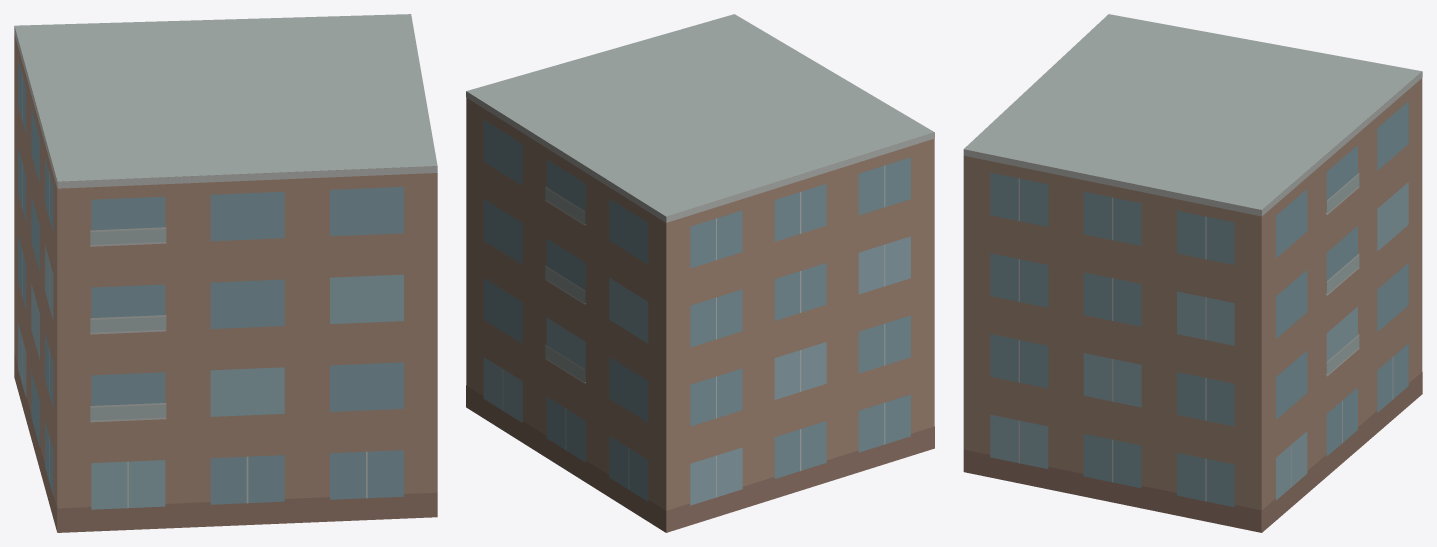
The model's file is survey-upis-32848703.glb.
3 renders of one model, left to right at view 1: azimuth 30°, elevation 25°; view 2: azimuth 150°, elevation 25°; view 3: azimuth 270°, elevation 25°, orthographic. The views are drawn at different scales.
Visible parts, largest first — view 1: survey-upis-32848703.tmp; view 2: survey-upis-32848703.tmp; view 3: survey-upis-32848703.tmp.
Boxes of the visible parts, x1=… form: survey-upis-32848703.tmp: x1=14, y1=14, x2=437, y2=532; survey-upis-32848703.tmp: x1=466, y1=14, x2=934, y2=532; survey-upis-32848703.tmp: x1=963, y1=14, x2=1422, y2=532.
Bounding box in the file's own units: 15.9 × 12.2 × 15.73.
